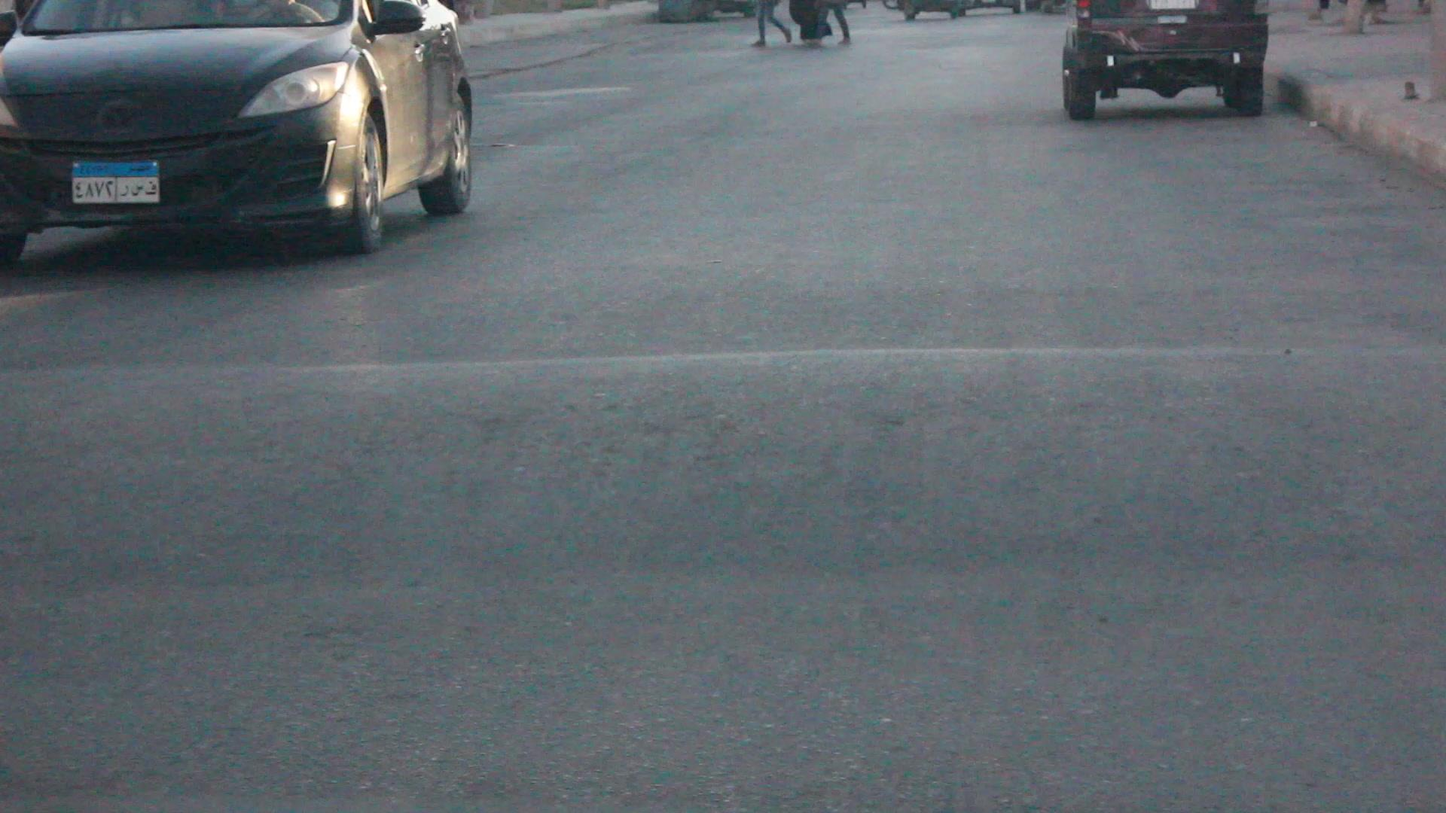Bump: (0, 336, 1442, 581)
